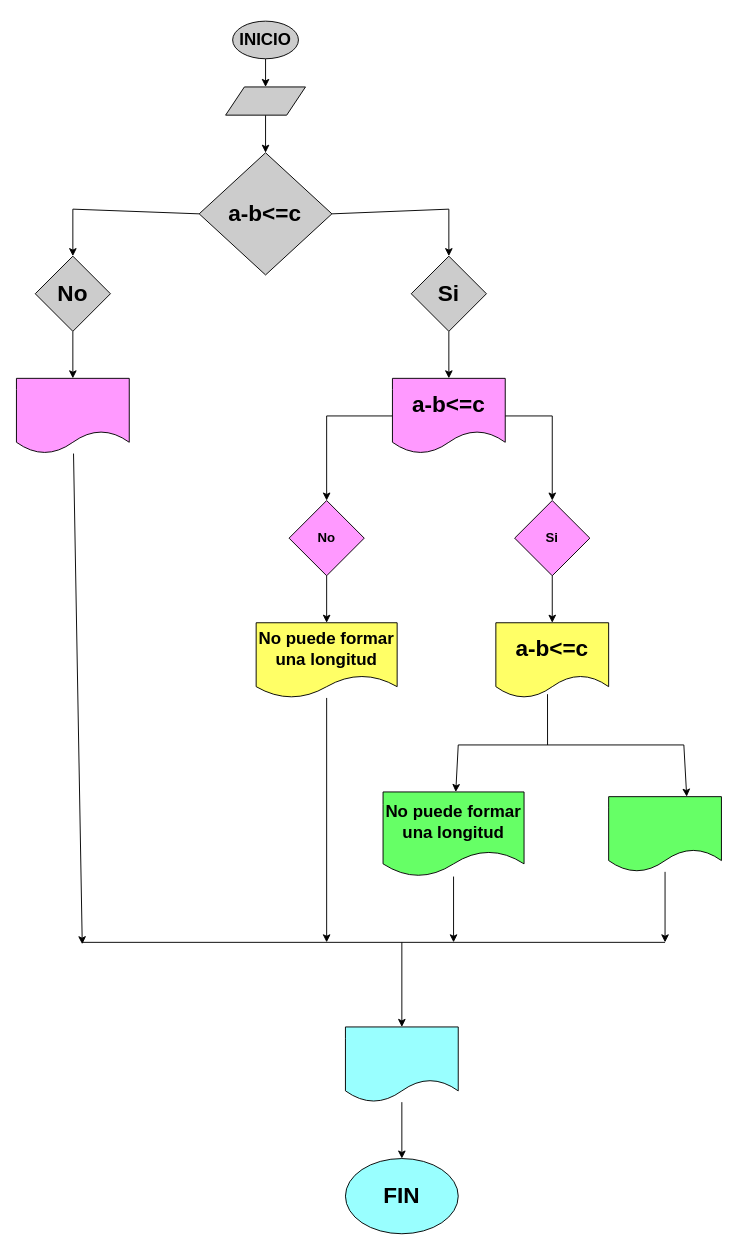
Some shapes in this 738 by 1250 pixel diagram are drawn without their labels. The centre of each missing label's shape, as x and y in pixels:
"a, b, c" belongs at point 265,100.
"a,b,c" belongs at point 401,1064.
"no puede formar un triangulo" belongs at point 72,415.
"Puede formar un triangulo" belongs at point 664,834.
